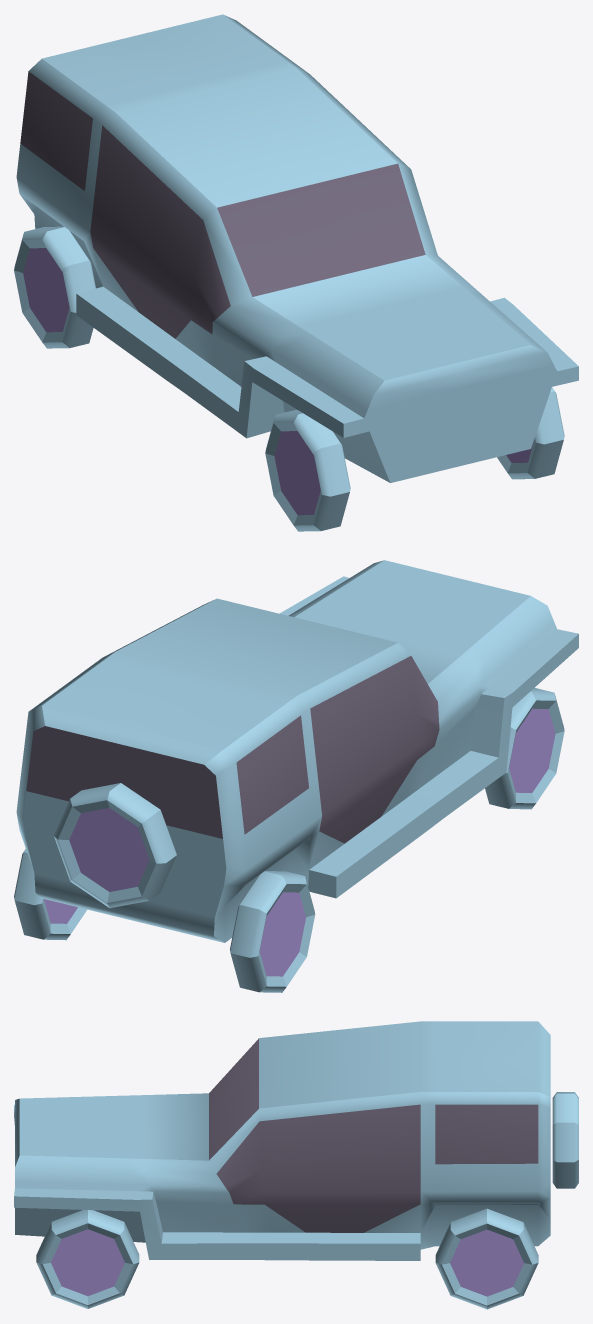
The model's file is Jeep UVed.fbx.
The picture shows the model from 3 angles, top to bottom: view 1: azimuth 30°, elevation 25°; view 2: azimuth 150°, elevation 25°; view 3: azimuth 270°, elevation 25°; orthographic projection. The views are drawn at different scales.
Visible parts, largest first — view 1: Jeep1; view 2: Jeep1; view 3: Jeep1.
Part boxes in pixels (x1,y1,x2,y2): Jeep1: (14, 14, 578, 531); Jeep1: (14, 560, 578, 992); Jeep1: (14, 1021, 578, 1309).
Size of the model in its own units: 464 by 443 by 1094.
